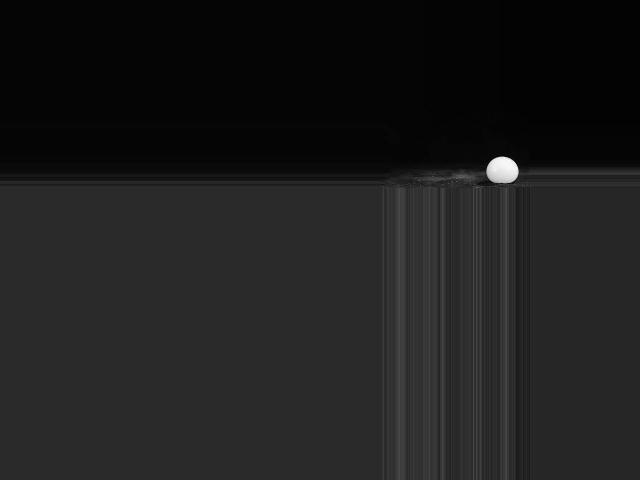egg: (485, 156, 518, 183)
